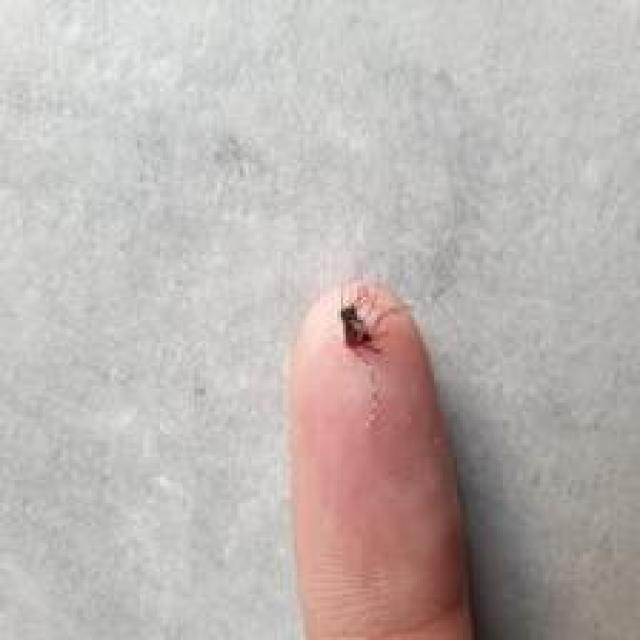Aedes albopictus: (337, 296, 383, 356)
